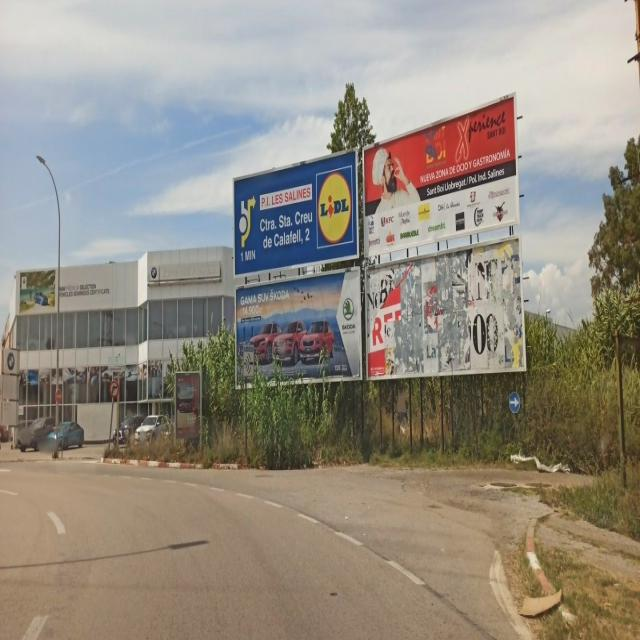car: (15, 418, 58, 453), (132, 412, 172, 443), (49, 420, 84, 451), (116, 414, 146, 444)
